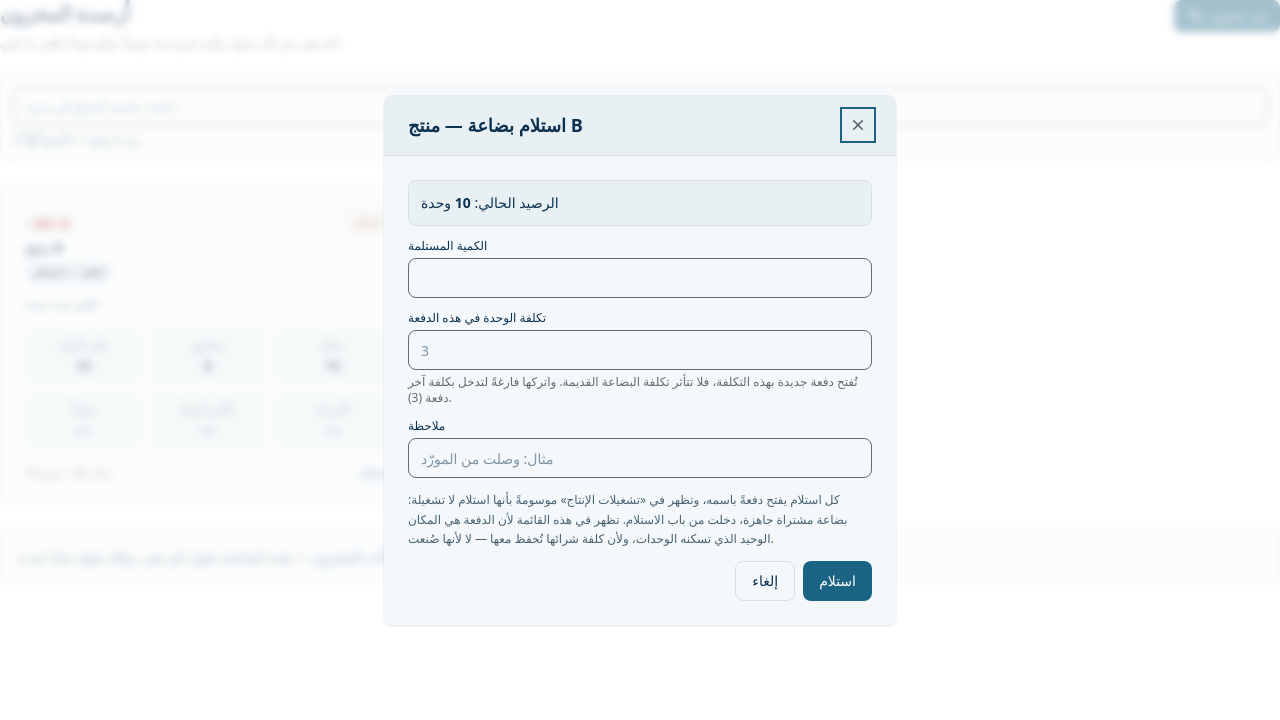
Scenario: ?product=<id> — arriving from one product › and a closed dialog stays closed while the parameter is still in the address
Check: the link "منتج B" is shown, box [25,238,63,257]
What coordinates should you click on to do the following:
click the button "إلغاء"
I would click on:
 (765, 581)
Its box is [735,561,795,601].
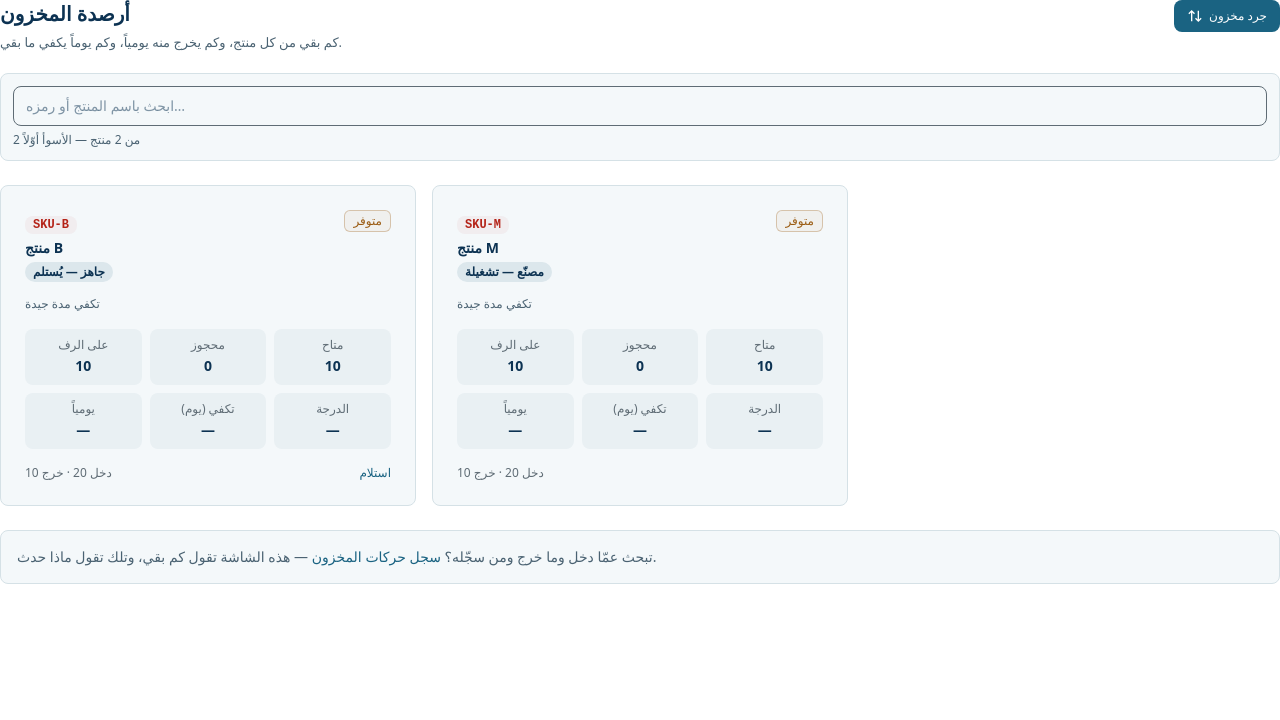
Check: the heading "استلام بضاعة — منتج B" is gone
